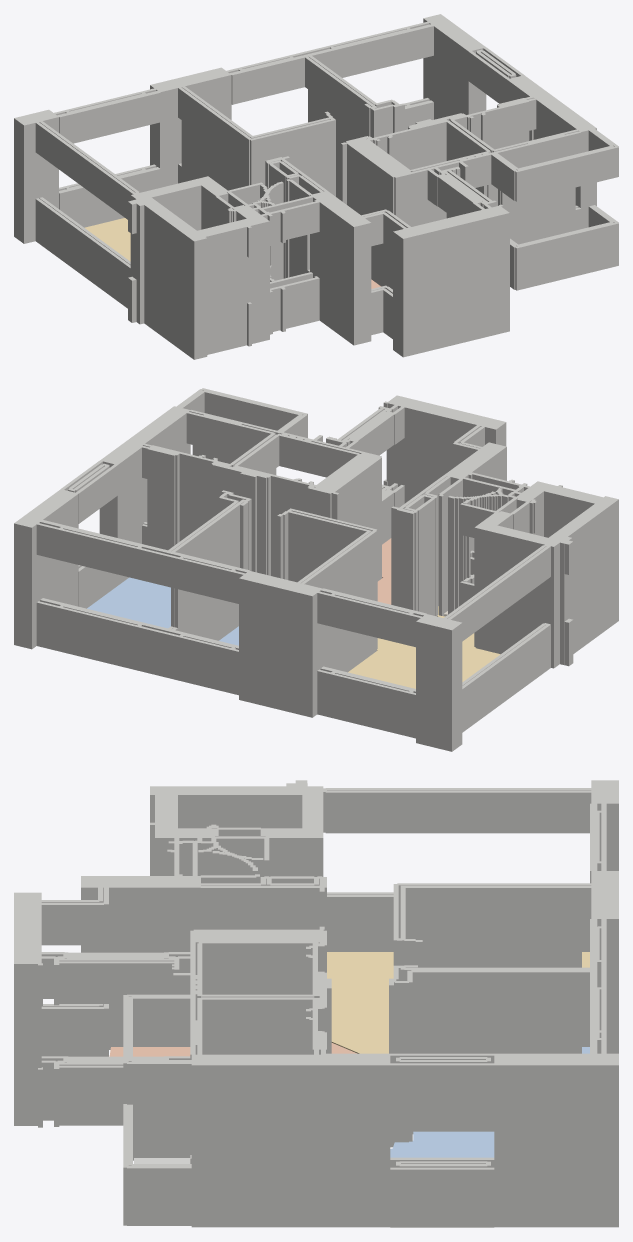
3 renders of one model, top to bottom at view 1: azimuth 30°, elevation 25°; view 2: azimuth 150°, elevation 25°; view 3: azimuth 270°, elevation 25°, orthographic. The views are drawn at different scales.
Parts seen in each view (by area): view 1: walls, room:living:0; view 2: walls, room:living:0, room:bedroom:2, room:kitchen:7; view 3: walls, room:living:0, room:bedroom:2, room:kitchen:7.
Part boxes in pixels (box(x1,y1,x2,y2)): walls: box(14, 14, 618, 359); room:living:0: box(84, 218, 130, 261); walls: box(14, 388, 618, 751); room:living:0: box(348, 606, 500, 688); room:bedroom:2: box(87, 577, 170, 628); room:kitchen:7: box(377, 538, 391, 604); walls: box(14, 780, 618, 1227); room:living:0: box(327, 952, 589, 1053); room:bedroom:2: box(390, 1131, 494, 1157); room:kitchen:7: box(109, 1043, 356, 1056).
Bounding box in the file's own units: 10.56 × 2.8 × 9.47.
